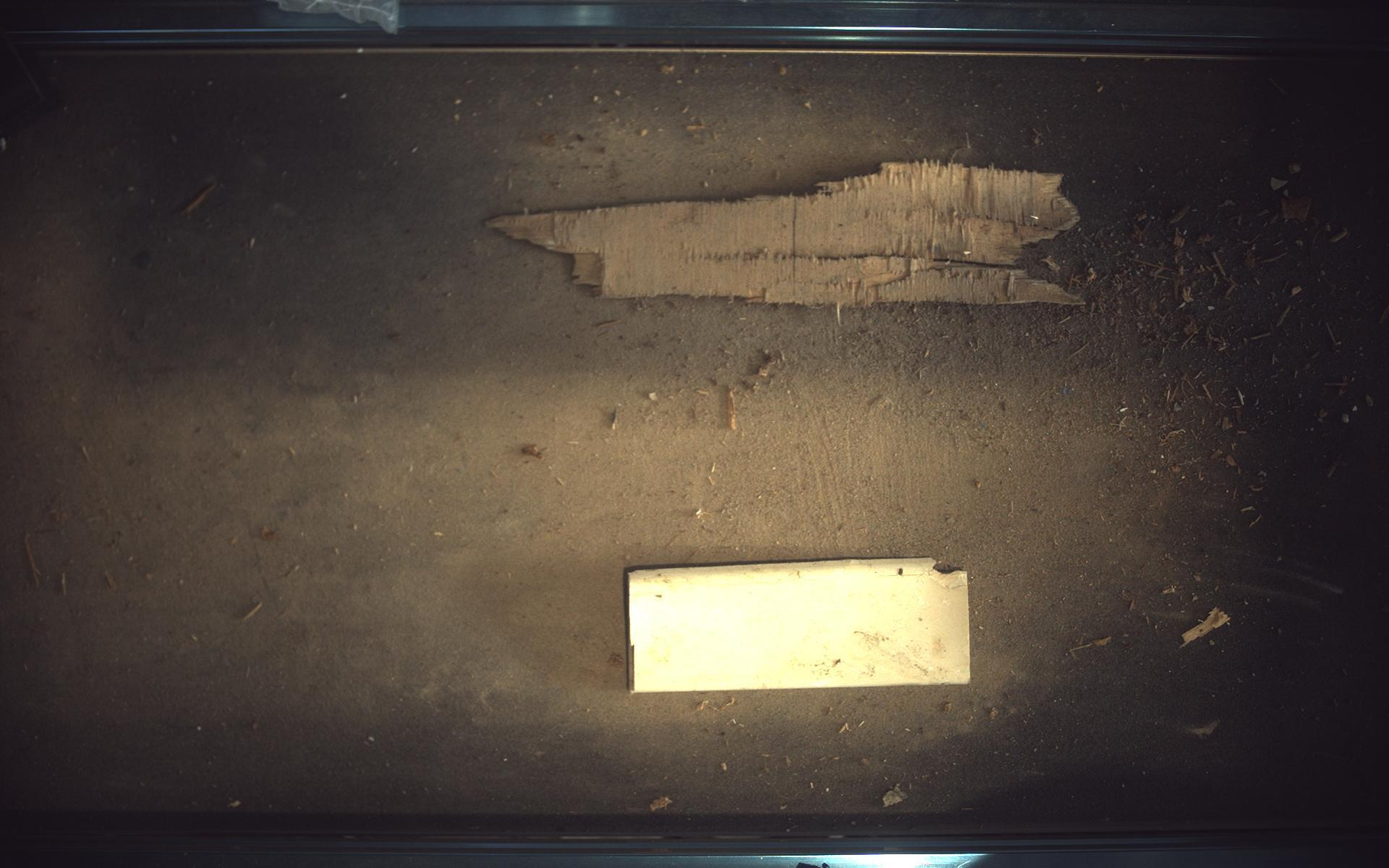wood: (490, 160, 1084, 305), (628, 558, 972, 693)
